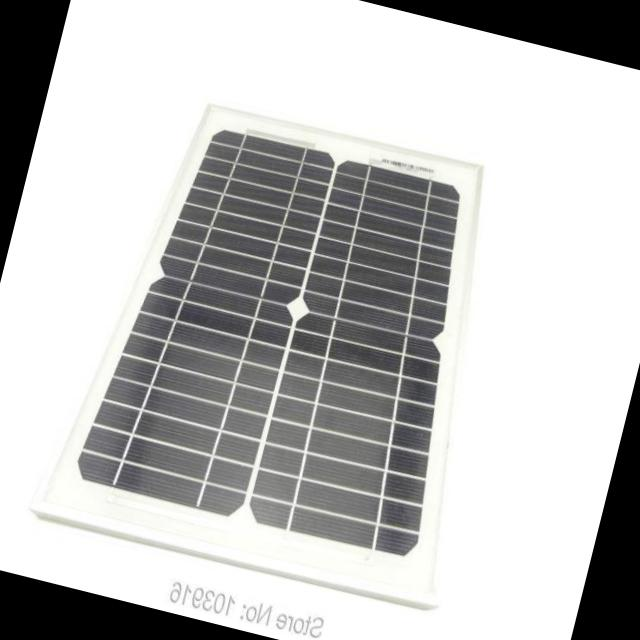no faulty: (113, 123, 480, 560)
